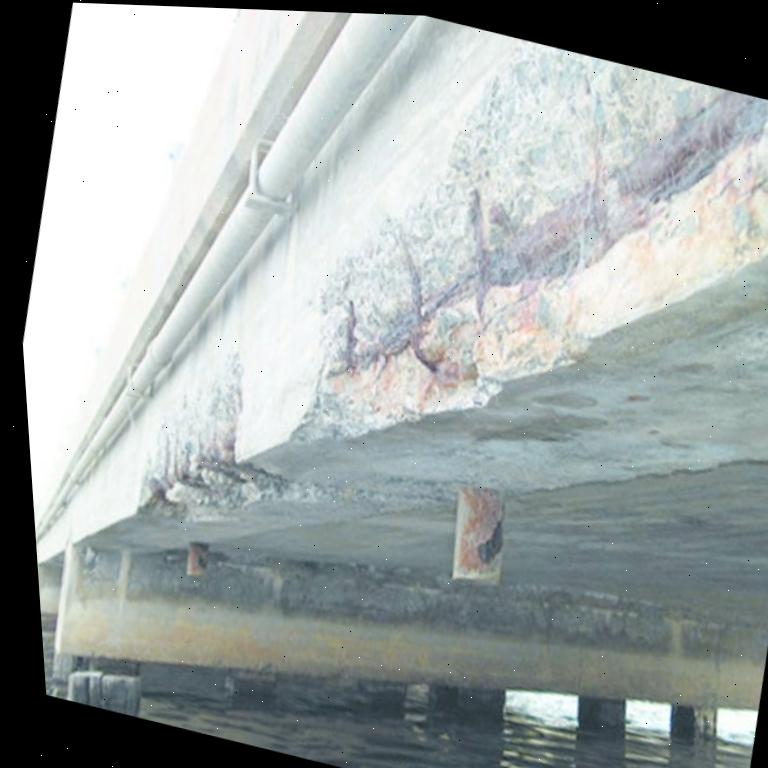exposed_rebar: (345, 190, 524, 374)
spalling: (310, 52, 767, 431), (144, 355, 285, 517)
